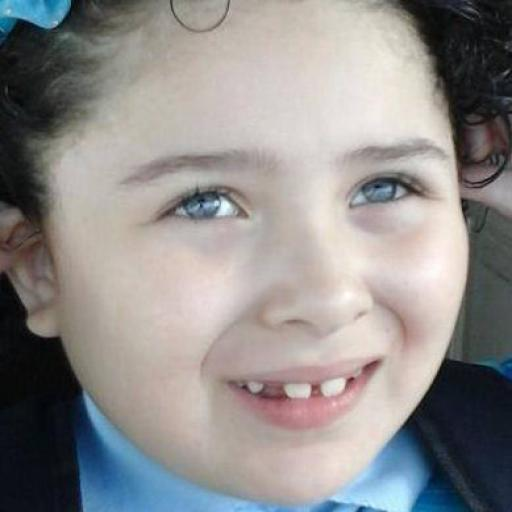Autism: (7, 1, 483, 473)
